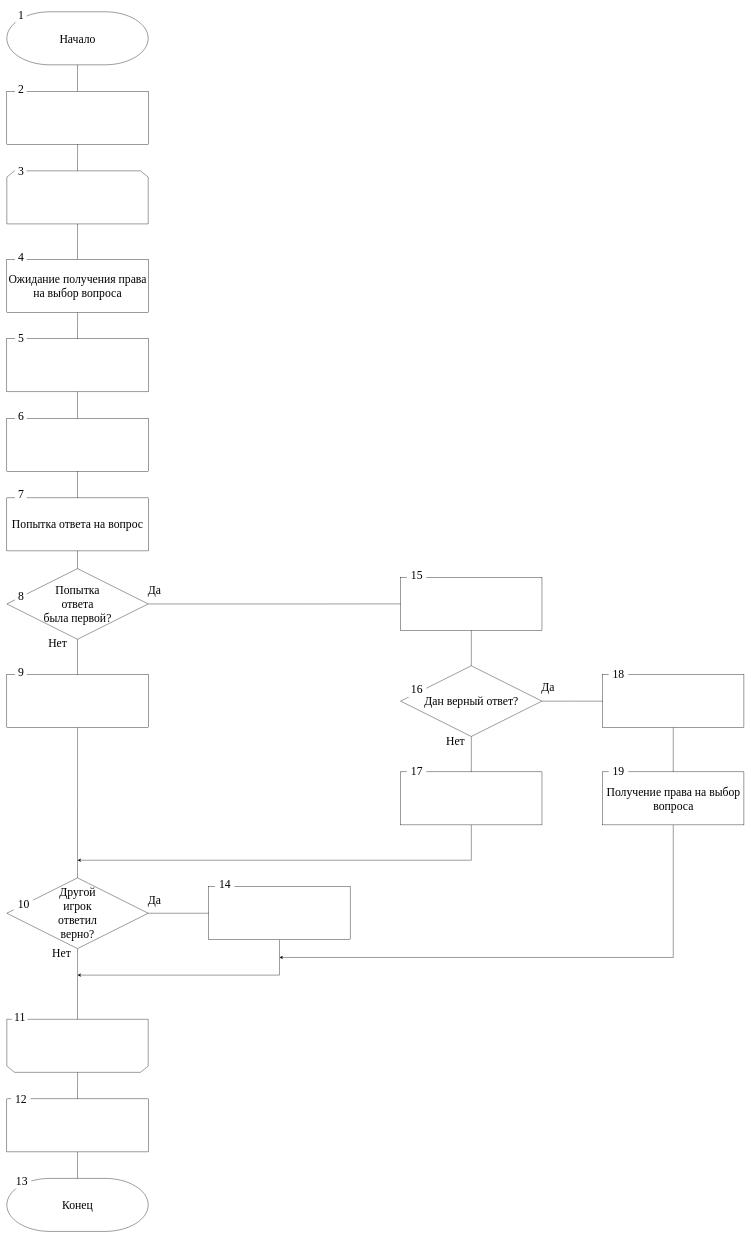
Some shapes in this 751 by 1238 pixel diagram are drawn without their labels. Each missing label, with the centre of its shape:
"А1" belongs at [77,1045].
"А1 До окончания всех доступных вопросов" belongs at [77,197].
"Выбор вопроса из списка" belongs at [77,365].
"Дача ответа на вопрос" belongs at [471,603].
"Демонстрация содержимого вопроса" belongs at [77,444].
"Начисление очков равных стоимости вопроса" belongs at [673,701].
"Определение победителя по числу набранных очков" belongs at [77,1125].
"Передача права выбора вопроса другому игроку" belongs at [279,913].
"Получение информации о списке доступных вопросов" belongs at [77,117].
"Потеря очков равных стоимости вопроса" belongs at [471,798].
"Пропуск ответа на вопрос" belongs at [77,701].
